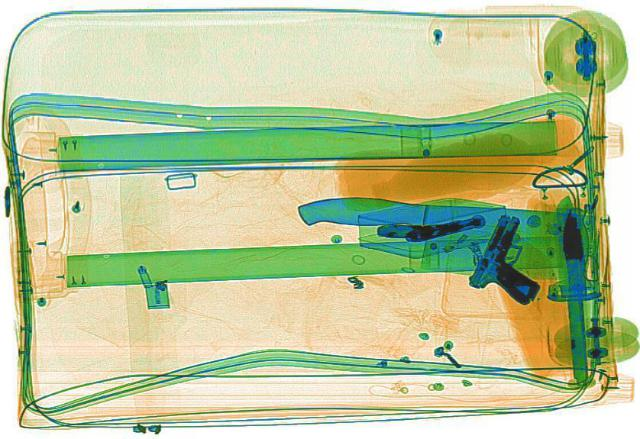Gun: (454, 212, 570, 305), (372, 206, 490, 247)
Knife: (290, 187, 594, 276), (541, 197, 611, 386)
